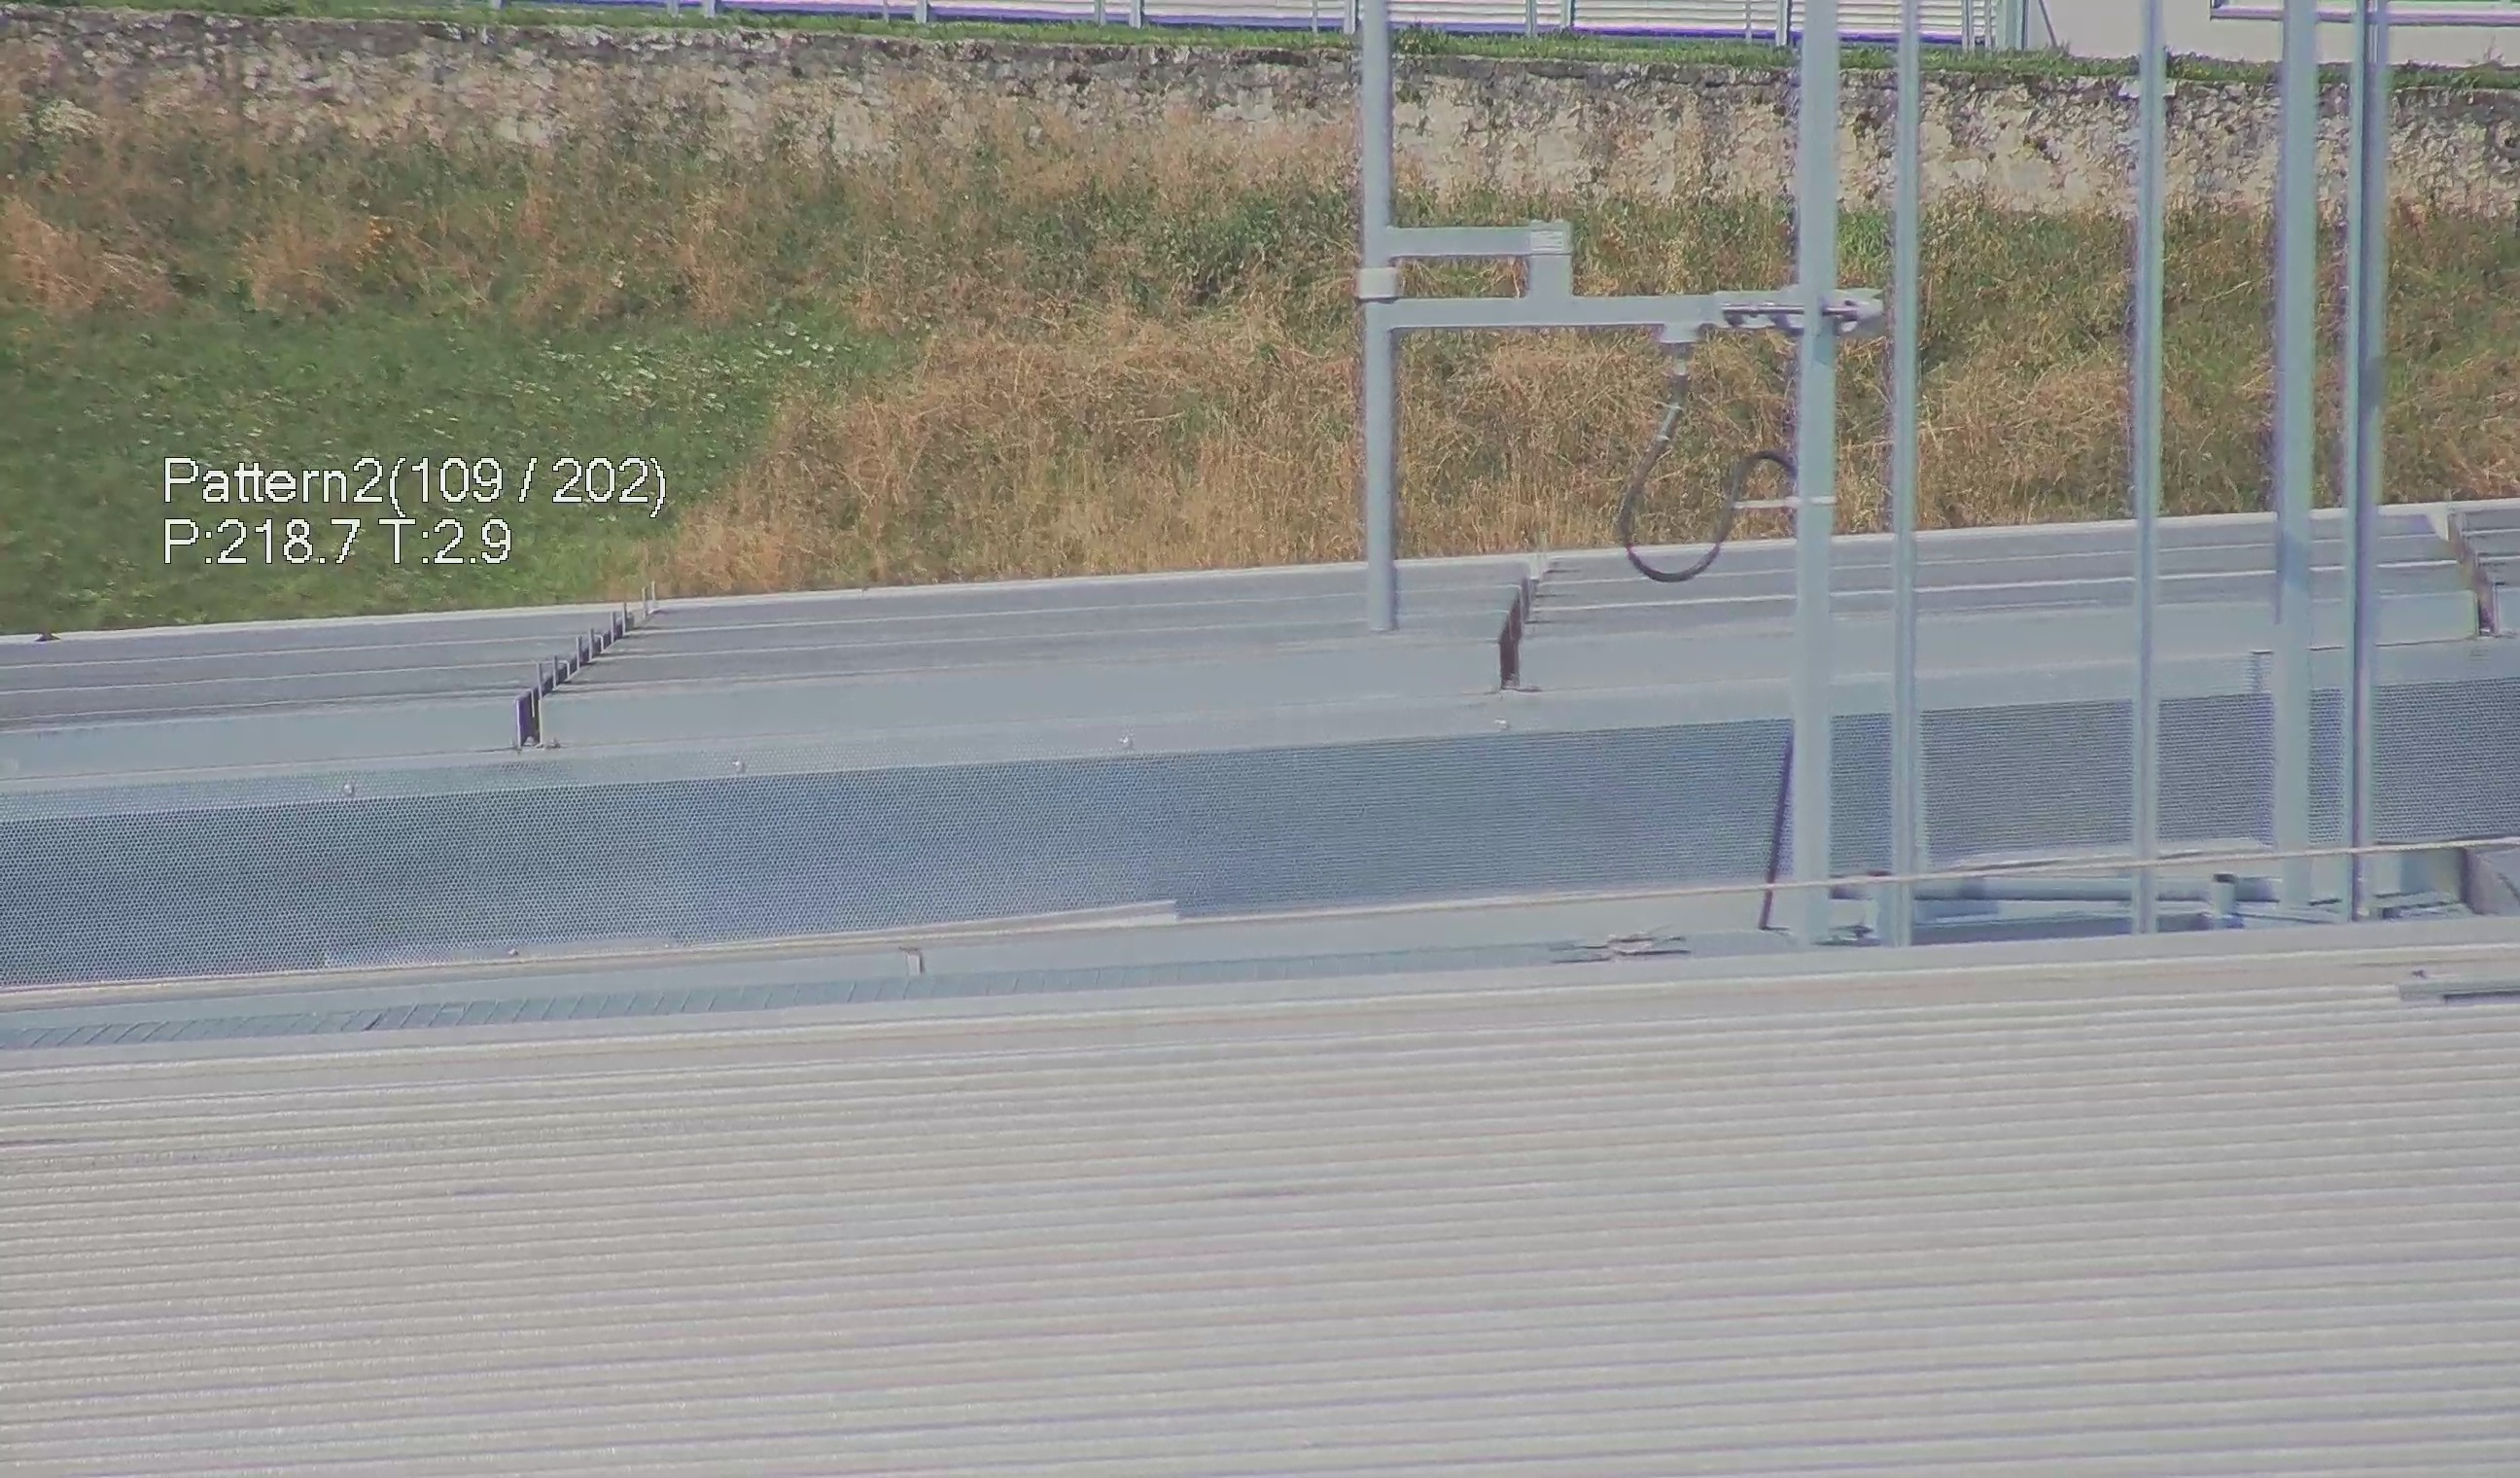Other: (1486, 551, 1560, 697)
